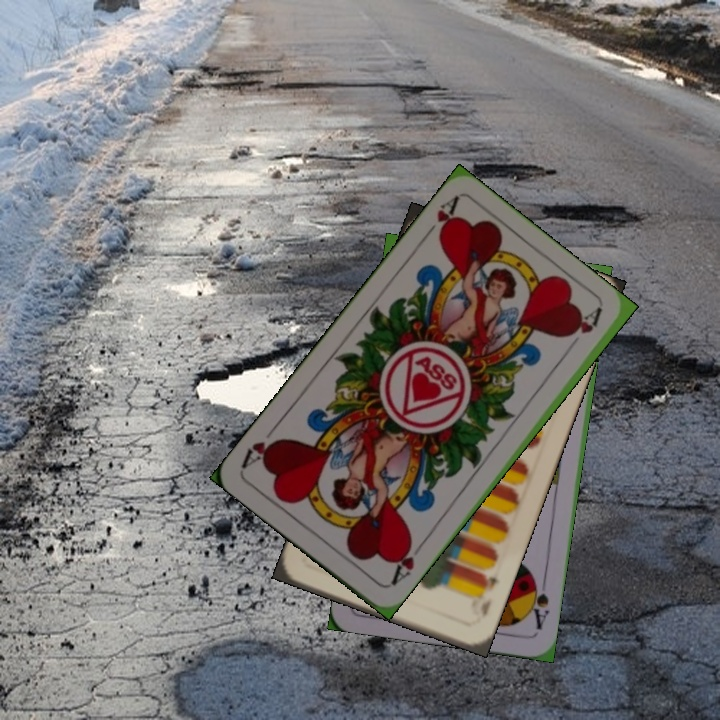E10: (474, 570, 502, 620)
HA: (417, 193, 461, 244), (386, 536, 417, 588)
SA: (524, 573, 552, 632)
